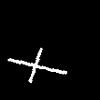single_crochet: (8, 48, 66, 82)
